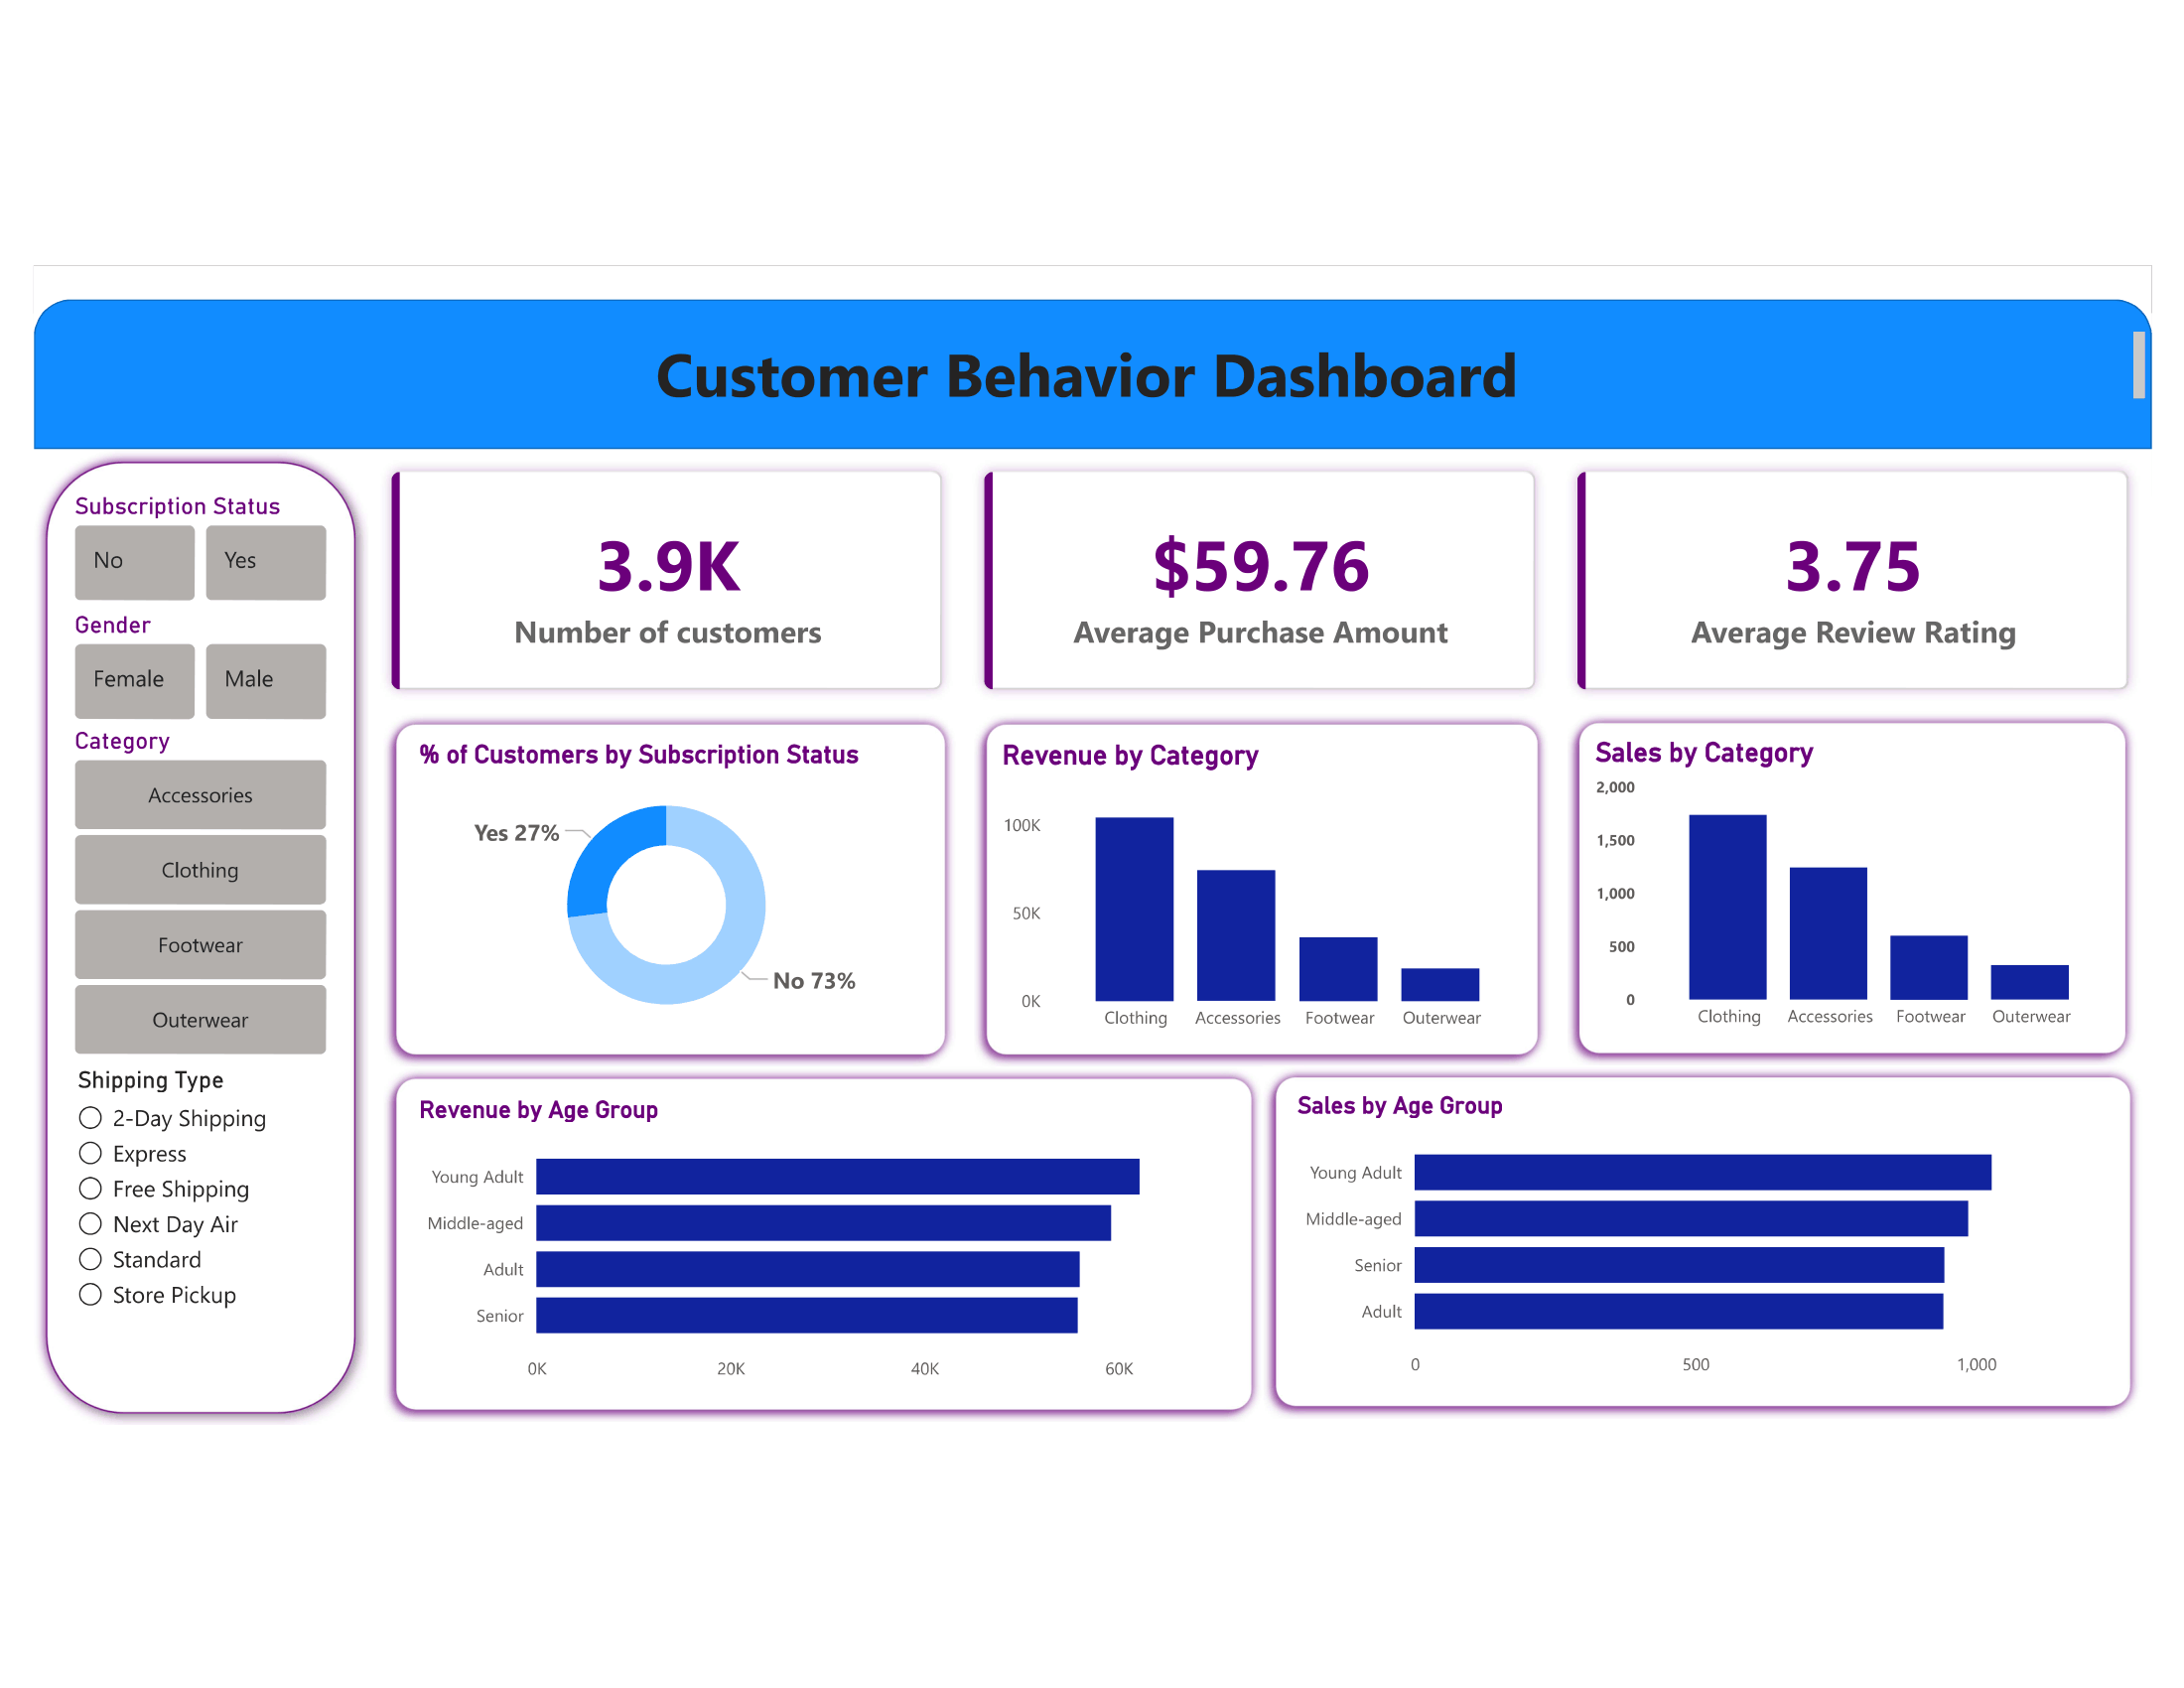

The page's visual inventory and layout, read from the dashboard file:
{"tool":"powerbi","page":{"name":"Page 1","canvas":[1500,820],"ordinal":0},"visuals":[{"type":"cardVisual","fields":{"Data":["public customer.Number of customers","public customer.Average Purchase Amount","public customer.Average Review Rating"]},"box":[236.5,129.7,1263.8,186.6],"z":0},{"type":"shape","box":[0,24.1,1500.3,106.1],"z":1000},{"type":"textbox","box":[0,41.8,1500.3,69.1],"z":2000},{"type":"shape","box":[247.9,316.3,406.1,250.8],"z":3000},{"type":"donutChart","title":"% of Customers by Subscription Status","fields":{"Category":["public customer.subscription_status"],"Y":["CountNonNull(public customer.customer_id)"]},"box":[267.9,334.8,360.5,213.7],"z":4000},{"type":"shape","box":[666.1,316.3,407.5,250.8],"z":5000},{"type":"shape","box":[1085.7,314.9,404.6,250.8],"z":6000},{"type":"clusteredColumnChart","title":"Revenue by Category","fields":{"Category":["public customer.category"],"Y":["Sum(public customer.purchase_amount)"]},"box":[681,334.8,379,215.1],"z":7000},{"type":"clusteredColumnChart","title":"Sales by Category","fields":{"Y":["CountNonNull(public customer.customer_id)"],"Category":["public customer.category"]},"box":[1101.4,333.4,376.1,215.1],"z":8000},{"type":"shape","box":[0,129.7,236.5,691],"z":9000},{"type":"advancedSlicerVisual","title":"Category","fields":{"Values":["public customer.category"]},"box":[24.2,326.3,188.1,239.4],"z":10000},{"type":"advancedSlicerVisual","title":"Gender","fields":{"Values":["public customer.gender"]},"box":[24.2,243.6,188.1,84.1],"z":11000},{"type":"advancedSlicerVisual","title":"Subscription Status","fields":{"Values":["public customer.subscription_status"]},"box":[24.2,159.6,188.1,84.1],"z":12000},{"type":"listSlicer","fields":{"Values":["public customer.shipping_type"]},"box":[25.6,565.6,185.2,230.8],"z":13000},{"type":"clusteredBarChart","title":"Revenue by Age Group","fields":{"Y":["Sum(public customer.purchase_amount)"],"Category":["public customer.age_group"]},"box":[267.9,585.6,584.2,212.3],"z":14000},{"type":"shape","box":[247.9,567.1,622.6,250.8],"z":15000},{"type":"shape","box":[870.5,565.6,622.6,250.8],"z":16000},{"type":"clusteredBarChart","title":"Revenue by Age Group","fields":{"Y":["Sum(public customer.purchase_amount)"],"Category":["public customer.age_group"]},"box":[267.9,587,584.2,212.3],"z":17000},{"type":"clusteredBarChart","title":"Sales by Age Group","fields":{"Category":["public customer.age_group"],"Y":["CountNonNull(public customer.customer_id)"]},"box":[890.5,584.2,584.2,212.3],"z":17001}]}

Visuals, with their boxes in screenshot pixels (x1, y1, x2, y2):
cardVisual - public customer.Number of customers x public customer.Average Purchase Amount: box=[345, 448, 2160, 716]
shape: box=[6, 296, 2160, 449]
textbox: box=[6, 322, 2160, 421]
shape: box=[361, 716, 945, 1076]
"% of Customers by Subscription Status" donutChart: box=[390, 743, 908, 1050]
shape: box=[962, 716, 1548, 1076]
shape: box=[1565, 714, 2145, 1074]
"Revenue by Category" clusteredColumnChart: box=[984, 743, 1528, 1052]
"Sales by Category" clusteredColumnChart: box=[1587, 741, 2127, 1050]
shape: box=[6, 448, 345, 1441]
"Category" advancedSlicerVisual: box=[41, 730, 311, 1074]
"Gender" advancedSlicerVisual: box=[41, 612, 311, 733]
"Subscription Status" advancedSlicerVisual: box=[41, 491, 311, 612]
listSlicer - public customer.shipping_type: box=[43, 1074, 309, 1405]
"Revenue by Age Group" clusteredBarChart: box=[390, 1103, 1229, 1408]
shape: box=[361, 1076, 1256, 1437]
shape: box=[1256, 1074, 2149, 1434]
"Revenue by Age Group" clusteredBarChart: box=[390, 1105, 1229, 1410]
"Sales by Age Group" clusteredBarChart: box=[1285, 1101, 2123, 1406]
